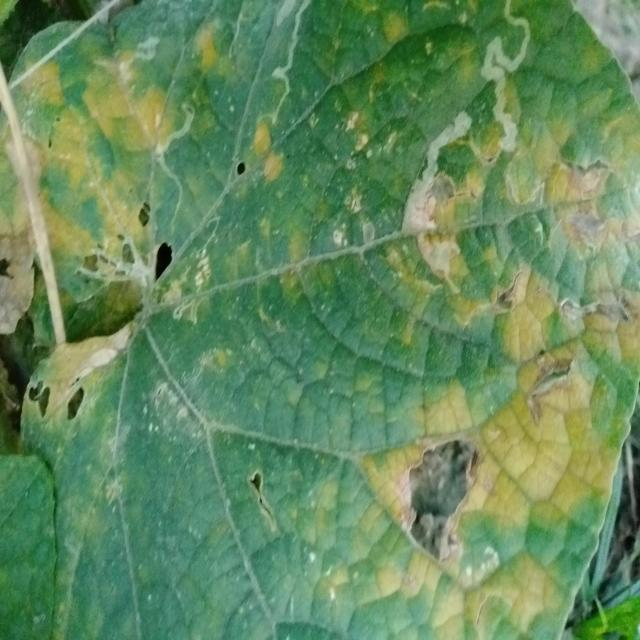cucumber_anthracnose: (26, 8, 630, 615)
